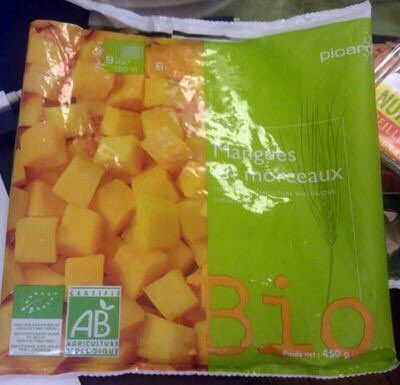Mangues en morceaux bio: (20, 19, 380, 366)
